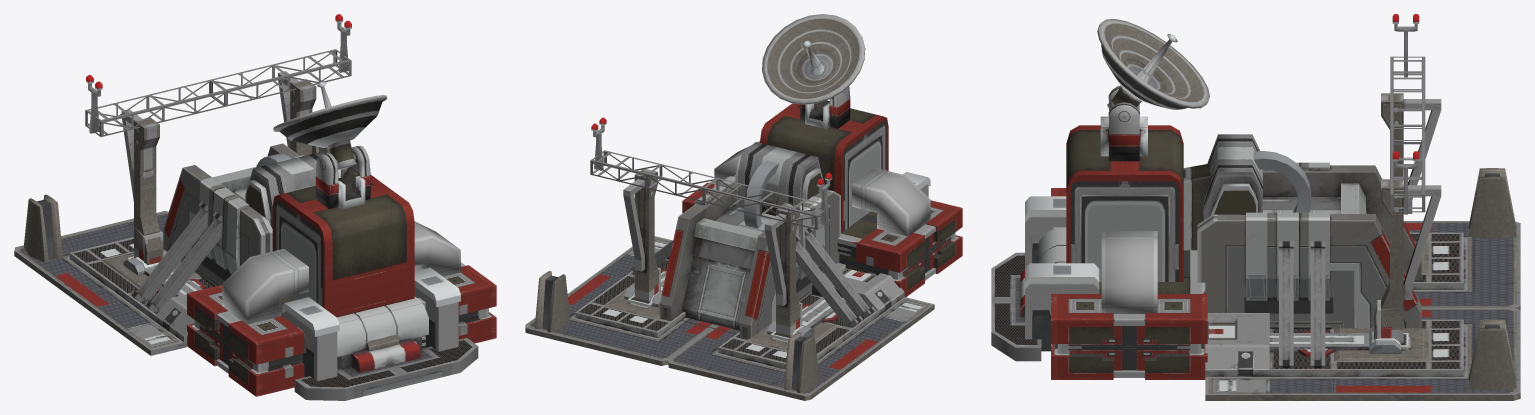
File: Building - 06-CSe1Y5Zl.glb
3 views of the same model, side by side, from view 1: azimuth 30°, elevation 25°; view 2: azimuth 150°, elevation 25°; view 3: azimuth 270°, elevation 25° (orthographic). The views are drawn at different scales.
Parts seen in each view (by area): view 1: box3, Pad_05, block2, Addon_08, Main_form_03, Tube_05_corner, Pylon_02, Extras_02, Fence_01, Addon_07, Fence_01 (1), Extras_02_pad (+9 smaller); view 2: Main_form_03, Pad_05, Pad_05 (1), Extras_02, block2, box3, Addon_07, Tube_05_corner, Pylon_02 (1), Pylon_02, Column_07 (1), Column_07 (+9 smaller); view 3: Main_form_03, Pad_05 (1), block2, box3, Pad_05, Extras_02, Addon_07, Tube_05_corner (1), Addon_08, Pylon_02 (1), Fence_01 (1), Pillar_06 (+10 smaller).
Part boxes in pixels (bbox=[...]): box3: bbox=[272, 175, 414, 317]; Pad_05: bbox=[14, 211, 213, 355]; block2: bbox=[187, 262, 496, 396]; Addon_08: bbox=[294, 296, 478, 400]; Main_form_03: bbox=[162, 143, 303, 286]; Tube_05_corner: bbox=[222, 249, 308, 324]; Pylon_02: bbox=[121, 109, 163, 264]; Extras_02: bbox=[273, 81, 386, 170]; Fence_01: bbox=[282, 297, 339, 381]; Addon_07: bbox=[245, 151, 340, 228]; Fence_01 (1): bbox=[414, 267, 460, 351]; Extras_02_pad: bbox=[315, 145, 370, 209]; Main_form_03: bbox=[659, 175, 840, 338]; Pad_05: bbox=[668, 263, 934, 400]; Pad_05 (1): bbox=[525, 236, 715, 365]; Extras_02: bbox=[762, 14, 865, 104]; block2: bbox=[682, 182, 962, 297]; box3: bbox=[760, 103, 888, 232]; Addon_07: bbox=[735, 142, 824, 215]; Tube_05_corner: bbox=[852, 167, 930, 236]; Pylon_02 (1): bbox=[623, 169, 660, 307]; Pylon_02: bbox=[764, 203, 802, 342]; Column_07 (1): bbox=[590, 150, 718, 202]; Column_07: bbox=[703, 177, 831, 229]; Main_form_03: bbox=[1197, 162, 1421, 329]; Pad_05 (1): bbox=[1205, 308, 1520, 400]; block2: bbox=[1051, 188, 1207, 379]; box3: bbox=[1066, 125, 1183, 281]; Pad_05: bbox=[1403, 221, 1520, 309]; Extras_02: bbox=[1097, 19, 1209, 109]; Addon_07: bbox=[1183, 134, 1262, 250]; Tube_05_corner (1): bbox=[1101, 231, 1157, 313]; Addon_08: bbox=[991, 227, 1066, 361]; Pylon_02 (1): bbox=[1374, 179, 1441, 347]; Fence_01 (1): bbox=[1025, 263, 1099, 351]; Pillar_06: bbox=[1468, 319, 1516, 390].
Size of the model in its own units: 5.25 by 4.04 by 6.76.
Materials: 11 (11 with a texture image).
